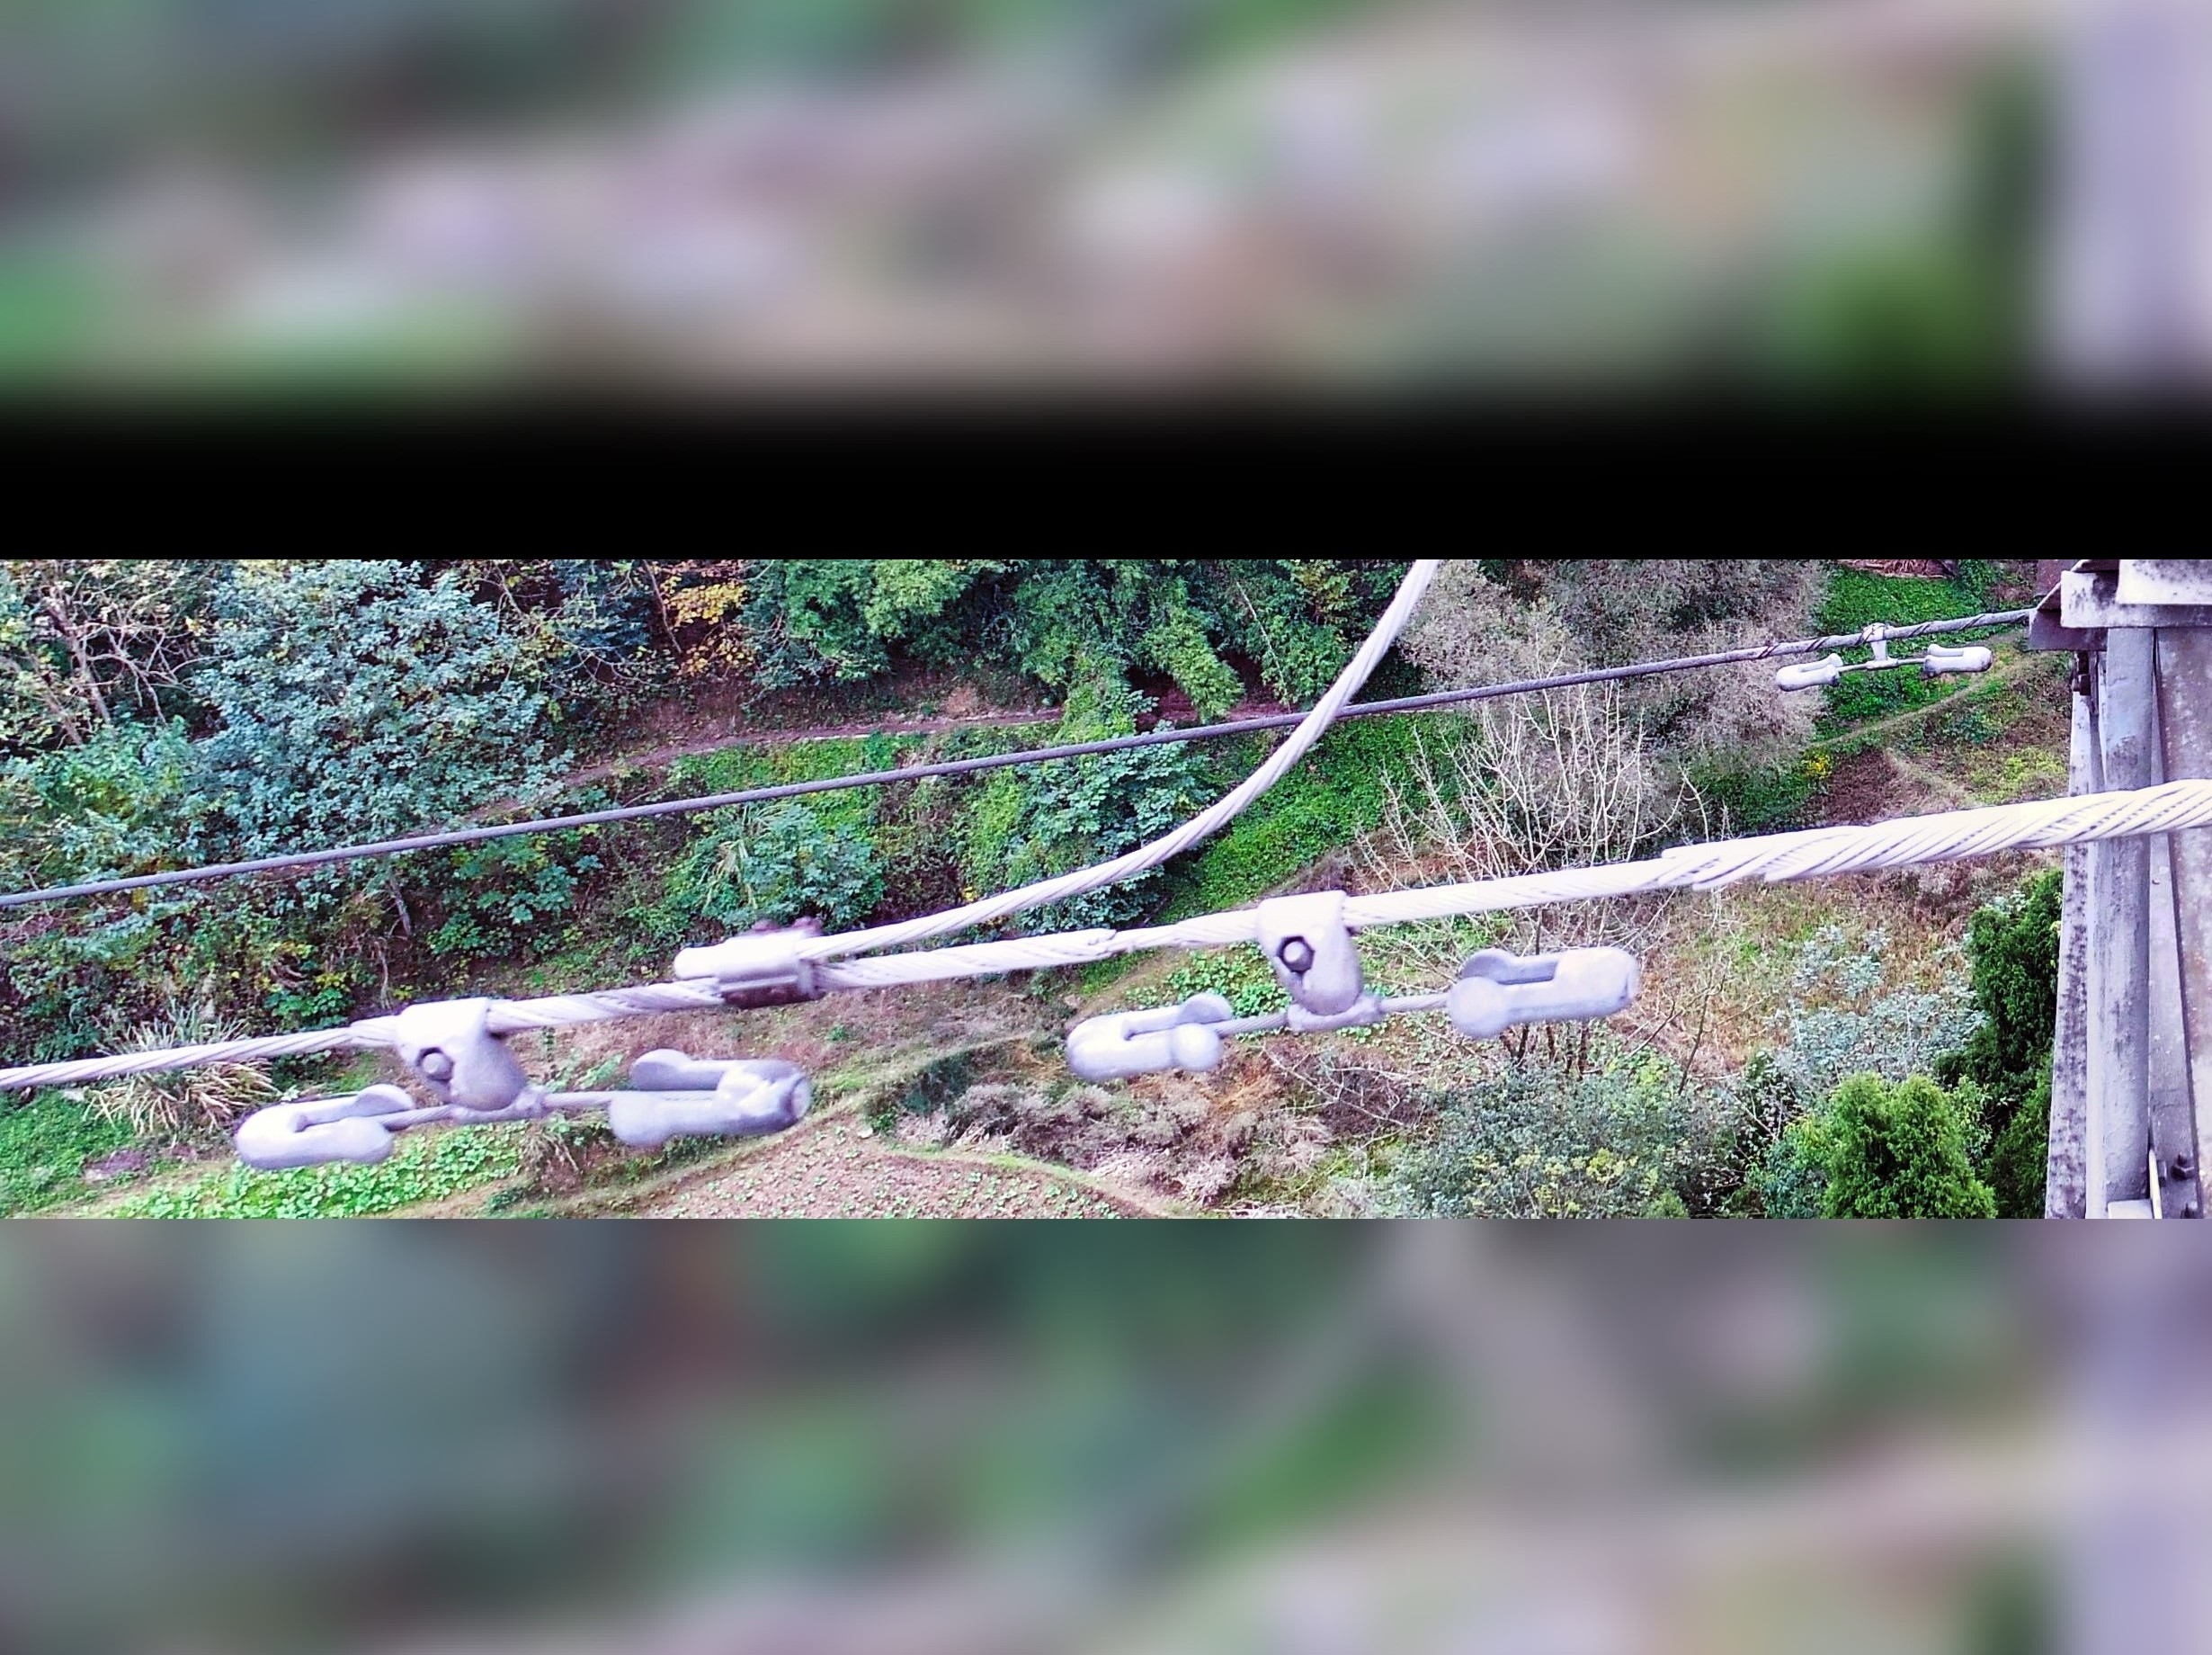Shockproof hammer: (1053, 861, 1649, 1097), (222, 977, 825, 1191)
